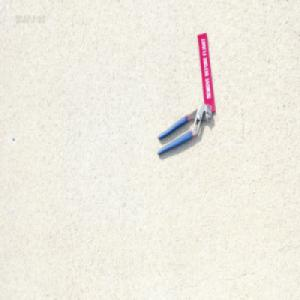Label: (197, 31, 216, 113)
Pliers: (156, 102, 212, 156)
